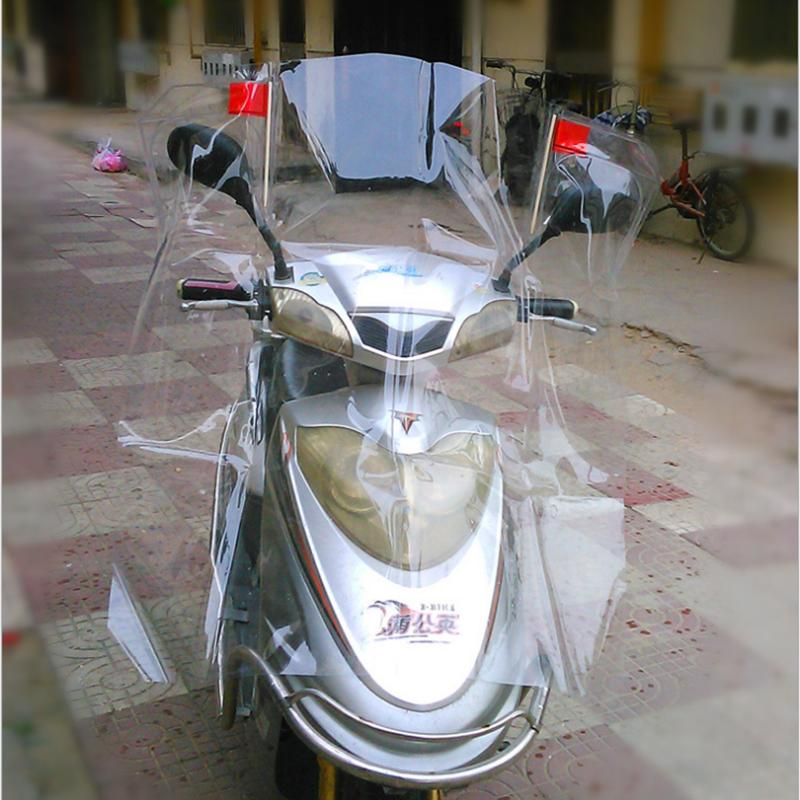电动车: (141, 68, 634, 800)
